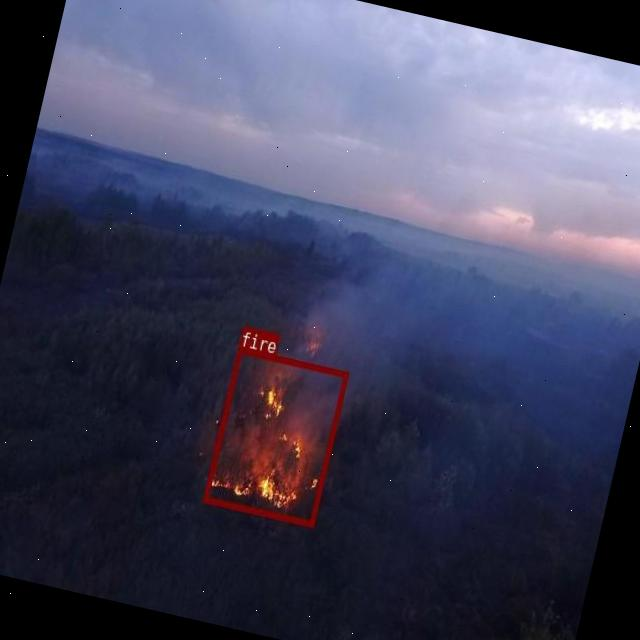fire: (202, 346, 348, 526)
